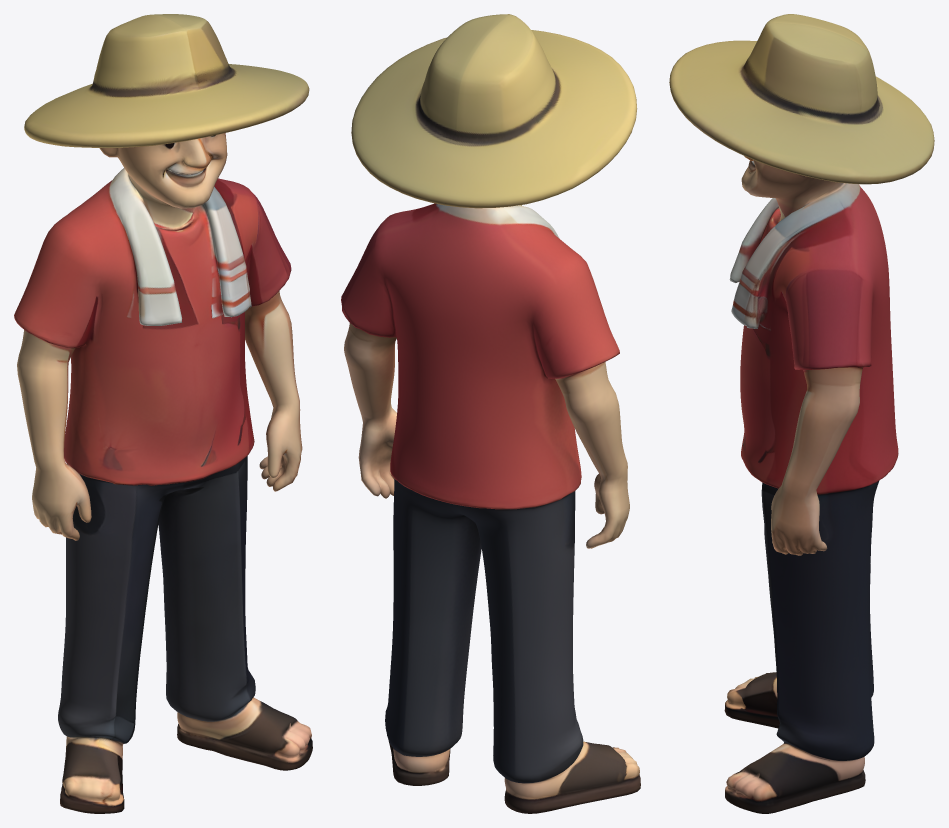
The model's file is npc_mang_udin.glb.
The picture shows the model from 3 angles, left to right: view 1: azimuth 30°, elevation 25°; view 2: azimuth 150°, elevation 25°; view 3: azimuth 270°, elevation 25°; orthographic projection. The views are drawn at different scales.
Visible parts, largest first — view 1: model; view 2: model; view 3: model.
Boxes of the visible parts, x1,y1,x2,y2 form: model: (14,14,312,813); model: (341,14,640,813); model: (669,14,934,813).
Size of the model in its own units: 0.6552 by 1.76 by 0.5735.
Materials: 1 (1 with a texture image).
